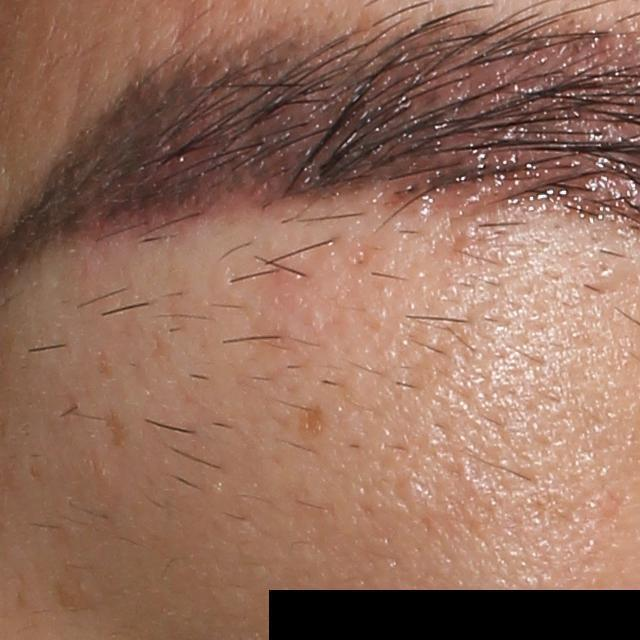melasma: (275, 378, 333, 459), (83, 388, 137, 452), (55, 576, 90, 614)
